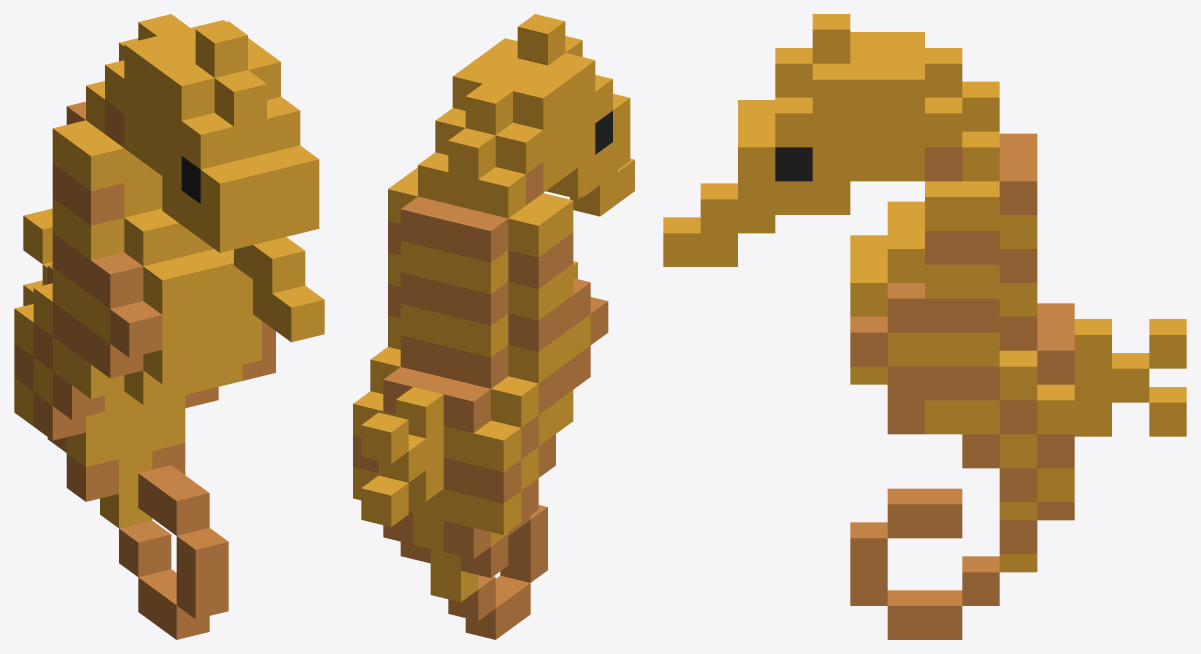
Rendered from seahorse.glb.
3 views of the same model, side by side, from view 1: azimuth 30°, elevation 25°; view 2: azimuth 150°, elevation 25°; view 3: azimuth 270°, elevation 25° (orthographic). The views are drawn at different scales.
Parts seen in each view (by area): view 1: Polygon; view 2: Polygon; view 3: Polygon.
Part boxes in pixels (x1,y1,x2,y2): Polygon: [14, 14, 324, 639]; Polygon: [353, 14, 634, 639]; Polygon: [663, 14, 1186, 639].
Bounding box in the file's own units: 0.5 × 1.8 × 1.4.
Materials: 1 (1 with a texture image).
